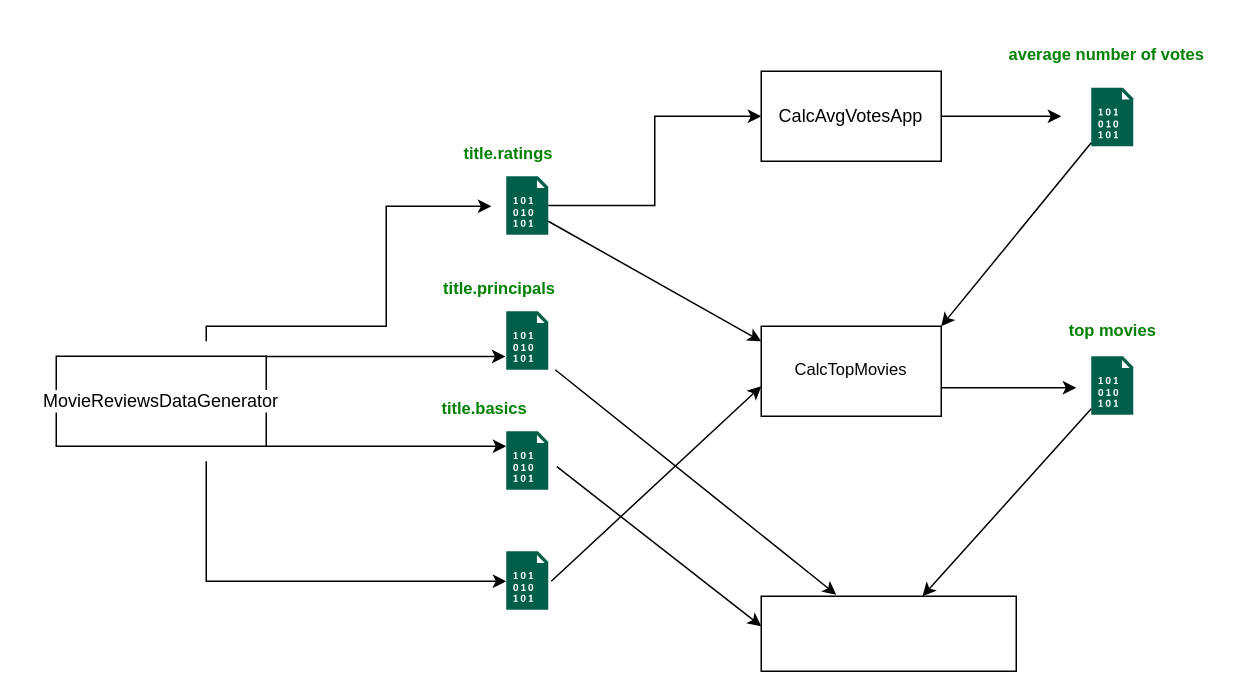
This 1244x698 diagram has some shape labels left out. The shapes that lost their labels are listed below. From the top down, each one's box as (x1, y1, x2, y2) in pixels, then its label:
(506, 550, 548, 609): title.akas
(760, 595, 1016, 671): CalcMovieNamesCreditedPeople
